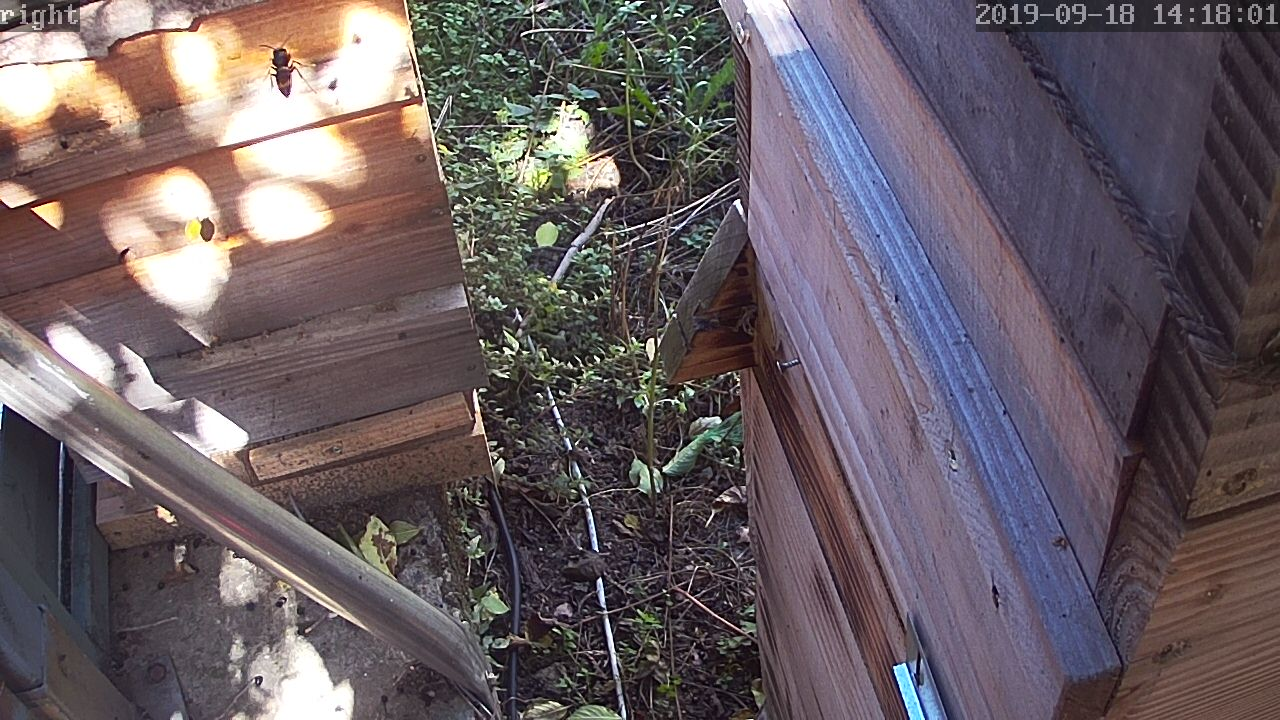hornet: (269, 44, 310, 99)
